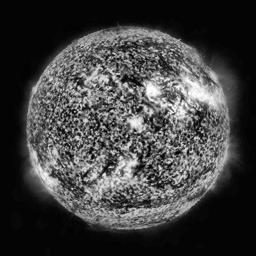solar flares: (183, 80, 218, 110), (141, 81, 166, 104), (127, 114, 146, 133), (118, 155, 137, 174)
sunspots: (110, 192, 147, 212), (124, 70, 150, 90), (56, 172, 80, 190), (156, 59, 175, 79), (190, 114, 205, 136), (152, 114, 166, 135), (102, 154, 118, 172), (149, 174, 168, 186), (119, 45, 137, 56), (149, 148, 169, 156), (77, 75, 89, 87)
